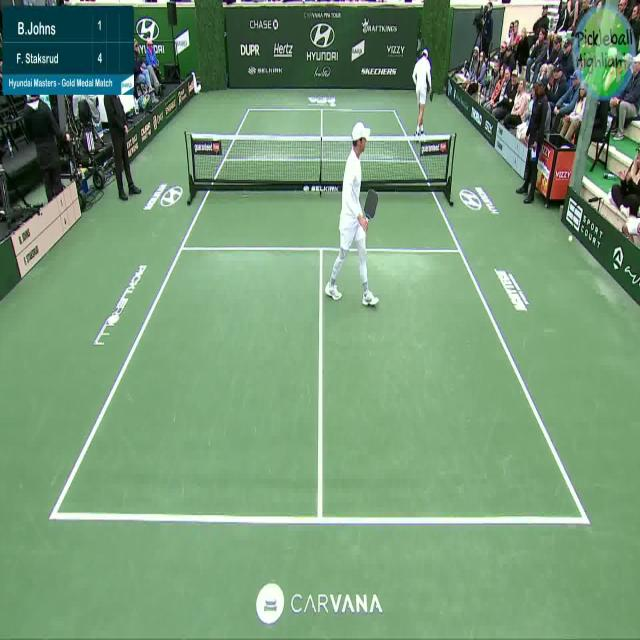Court: (53, 109, 591, 523)
